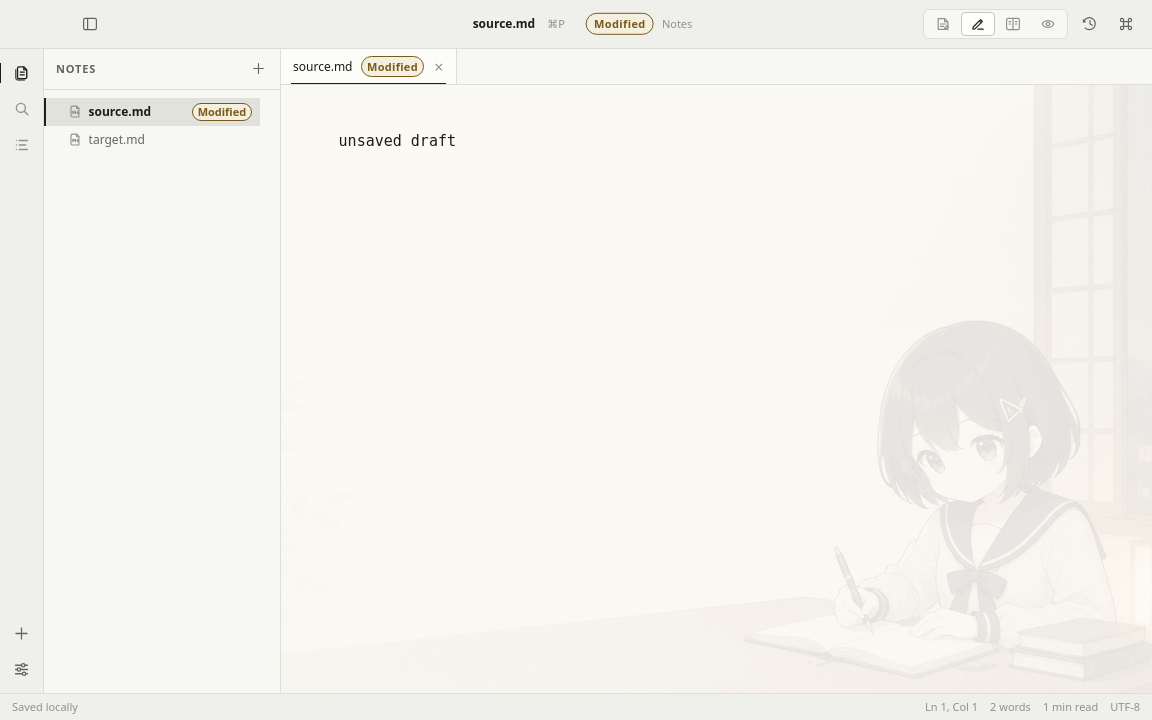
Test case: App search navigation › keeps a duplicate confirmation open when the copy fails
Right-click the list item "source.md Modified".
right_click(152, 112)  # box [44,98,260,126]
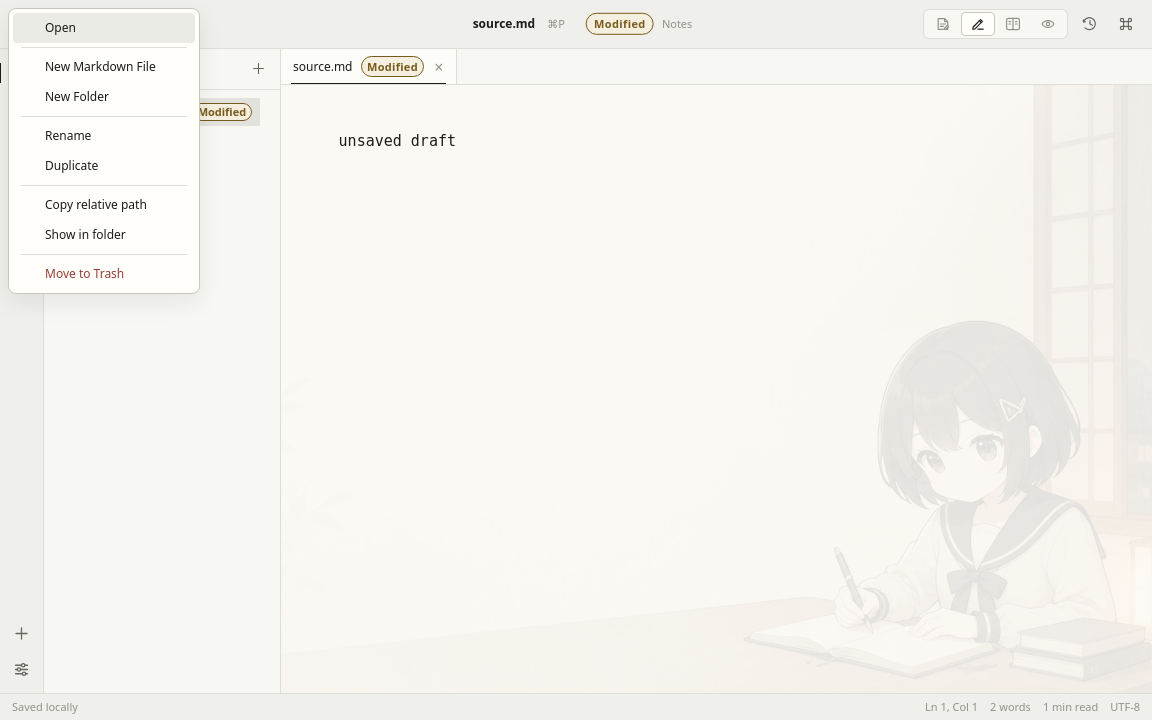
Click the menu item "Duplicate".
click(104, 166)  # box [13,151,195,181]
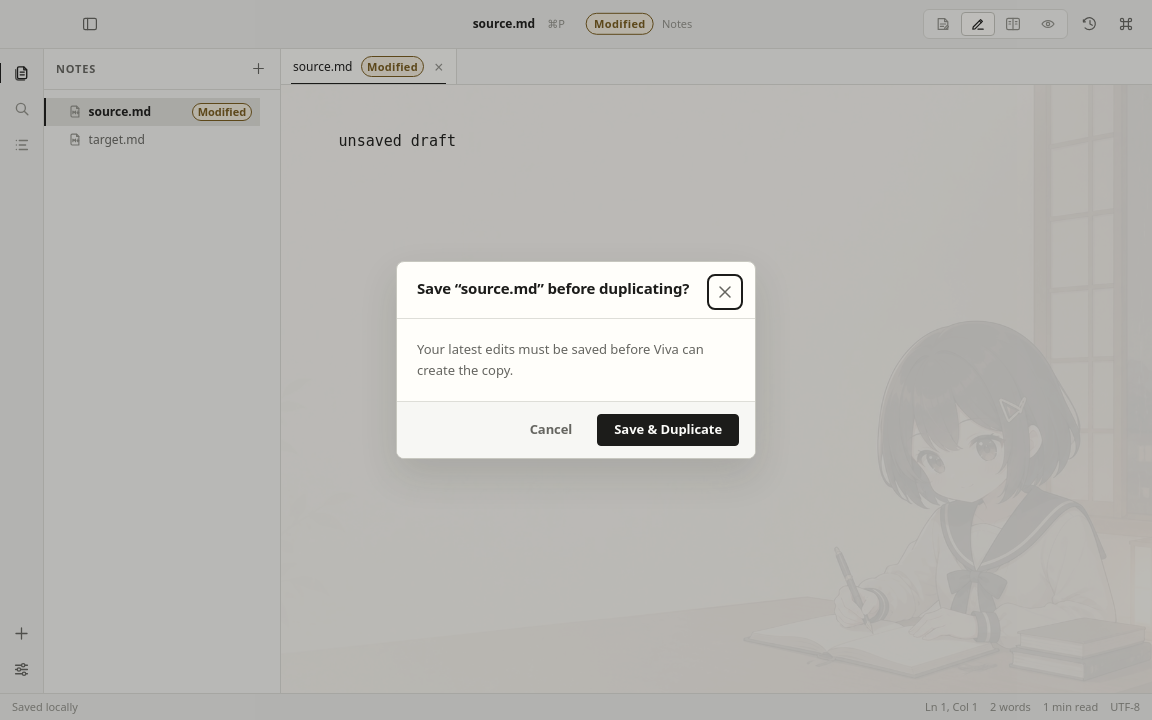
Click the button "Save & Duplicate".
click(668, 430)  # box [597,414,739,446]
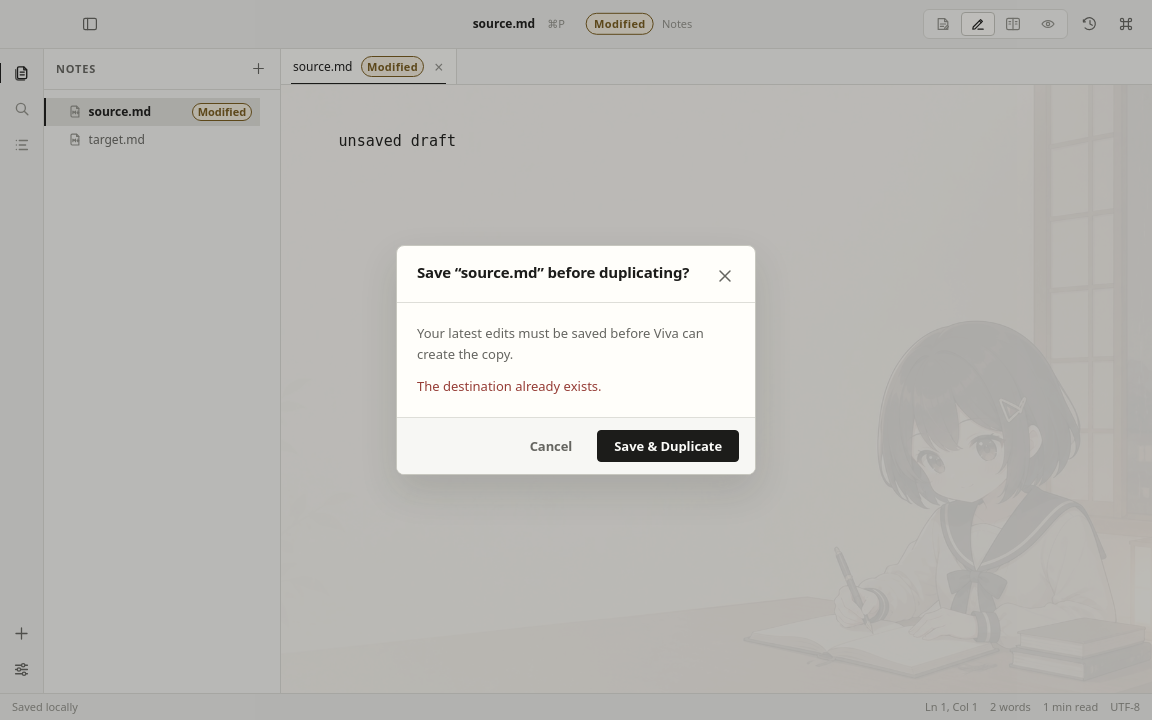
Check: the dialog "Save “source.md” before duplicating?" is shown, box [396,245,756,475]
Check: the message reads "The destination already exists.", box [417,377,602,395]
